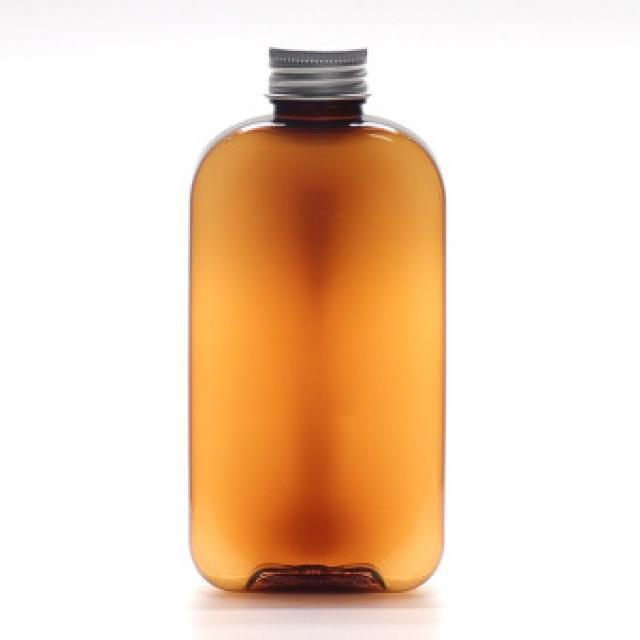plastic bottle: (190, 45, 446, 595)
